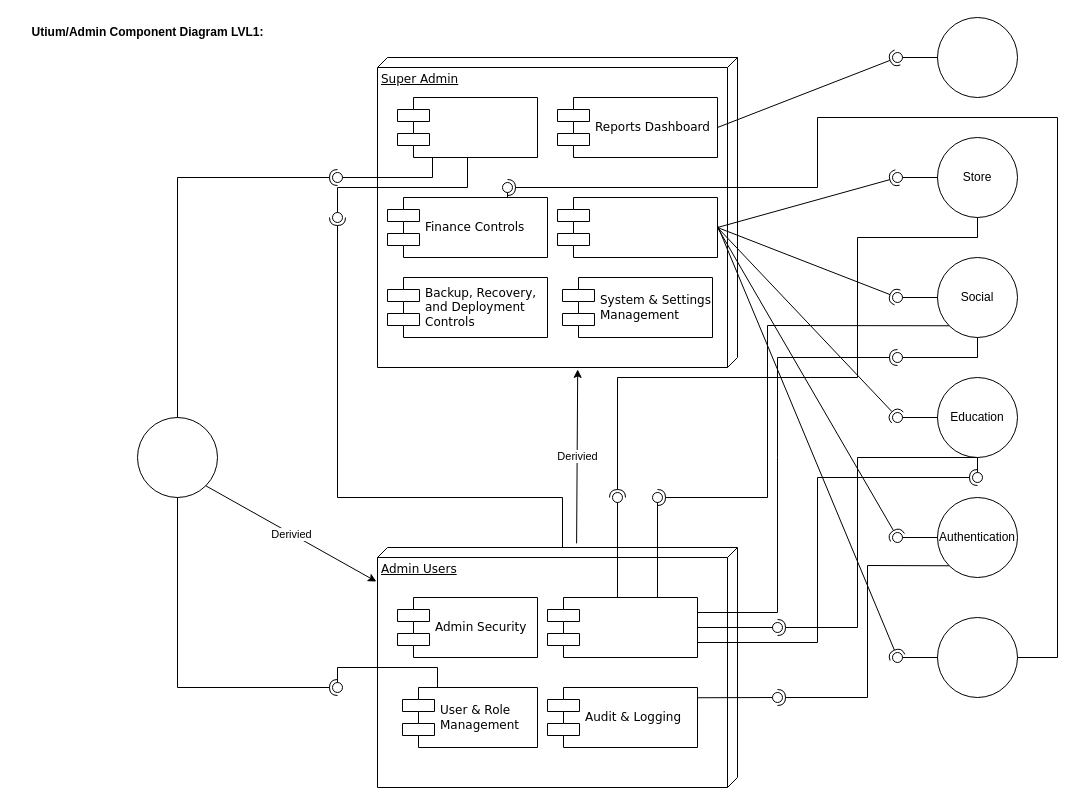
Some shapes in this 1083 by 805 pixel diagram are drawn without their labels. The shapes that lost their labels are listed below. From the top down, each one's centre as x and y in pixels, then its label:
pixel 977 57: Management/ Reports
pixel 467 127: Global User & Role Management
pixel 637 227: Performance Monitoring
pixel 177 457: Member/ Acount LVL 1
pixel 622 627: Content & Data Management
pixel 977 657: Management
